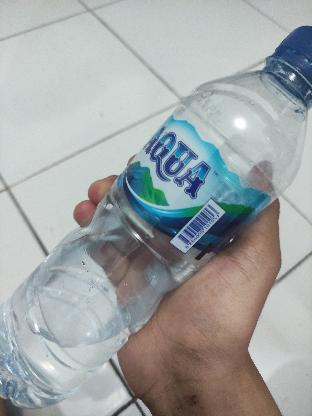Plastic Bottle: (0, 22, 312, 411)
